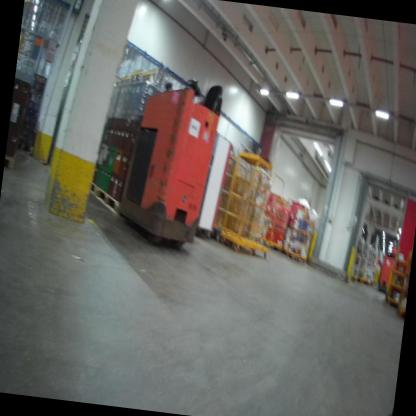pallet: (92, 180, 122, 211), (5, 146, 19, 174), (85, 178, 98, 201)
pallet_truck: (111, 62, 230, 255), (371, 239, 401, 294)
